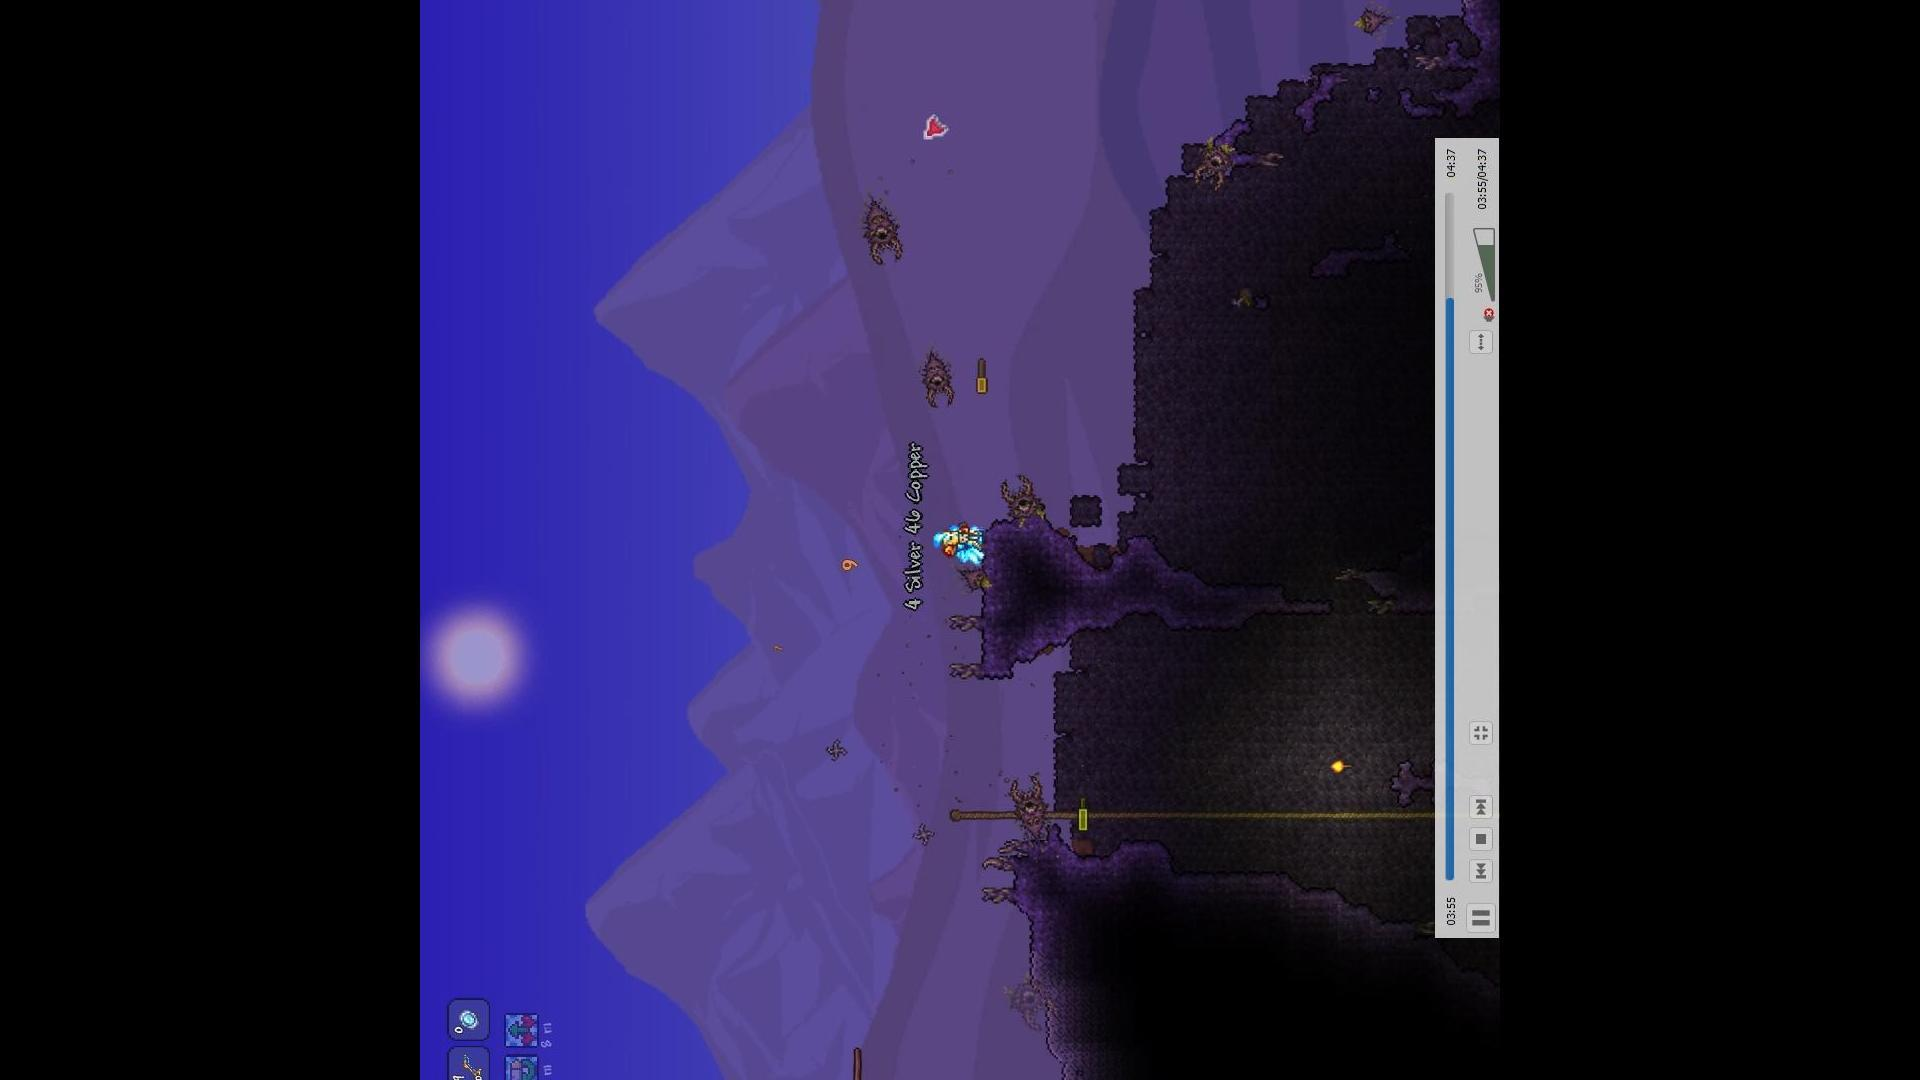crimera: (860, 195, 906, 270), (1007, 764, 1055, 836), (923, 345, 953, 415)
